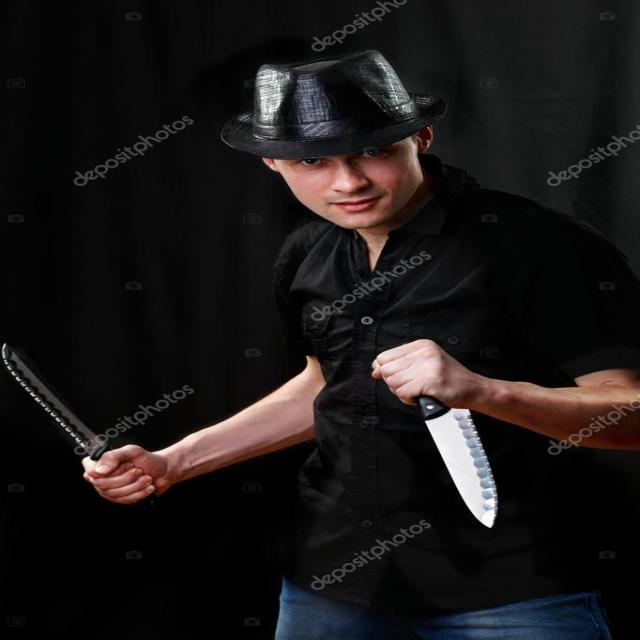knife: (1, 340, 112, 468), (412, 393, 507, 536)
